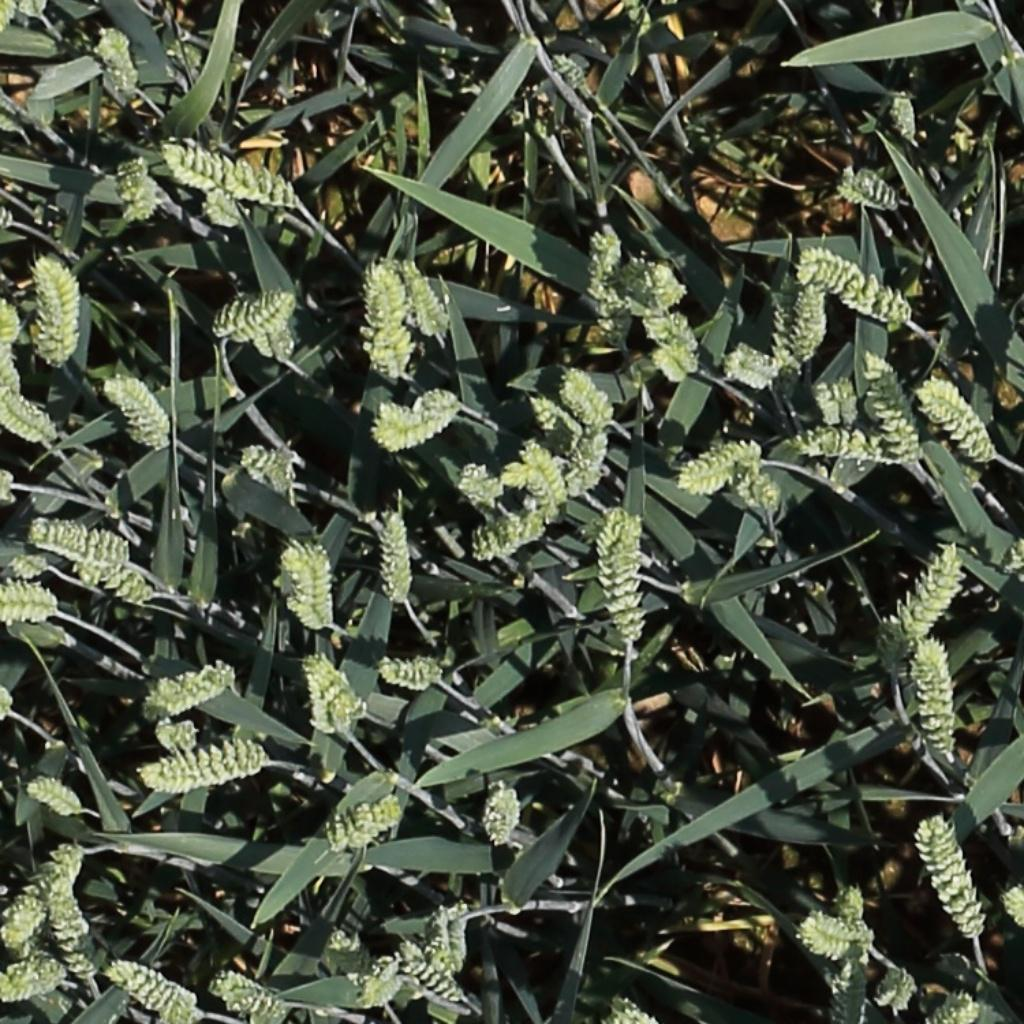0-0: (361, 261, 467, 416), (885, 539, 969, 680), (912, 814, 988, 942), (625, 252, 711, 354), (162, 141, 296, 204), (776, 261, 845, 383), (802, 251, 909, 322), (567, 249, 658, 324), (866, 348, 922, 465), (918, 379, 996, 462), (143, 740, 269, 789), (598, 509, 643, 643), (237, 286, 305, 372), (144, 656, 241, 715), (32, 252, 83, 362), (12, 846, 86, 921), (46, 875, 95, 988), (327, 926, 389, 1008), (791, 907, 878, 965), (395, 937, 466, 1006), (917, 637, 955, 765), (109, 959, 192, 1017), (102, 375, 172, 443), (305, 656, 363, 737), (72, 548, 150, 604), (527, 390, 591, 458), (520, 438, 570, 525), (498, 458, 585, 507), (828, 925, 870, 1024), (327, 800, 404, 853), (402, 256, 451, 339), (565, 421, 614, 503), (371, 407, 455, 454), (356, 950, 424, 1008), (30, 522, 128, 562), (290, 547, 333, 636), (795, 426, 907, 460), (562, 363, 617, 431), (454, 451, 520, 507), (92, 23, 141, 98), (471, 514, 547, 562), (374, 656, 455, 701), (215, 294, 296, 338), (731, 454, 783, 521), (0, 570, 59, 629), (430, 898, 472, 979), (212, 976, 286, 1019), (240, 443, 296, 499), (0, 958, 66, 1005), (0, 387, 55, 442), (0, 897, 49, 958), (591, 218, 622, 309), (480, 780, 518, 852), (550, 46, 600, 99), (868, 958, 915, 1014), (385, 503, 410, 608), (688, 442, 767, 475), (812, 374, 858, 426), (839, 172, 905, 207), (147, 704, 205, 743), (599, 989, 662, 1024), (650, 346, 699, 390), (626, 161, 666, 214), (891, 83, 924, 146), (200, 181, 244, 228), (649, 255, 685, 312), (25, 782, 83, 817), (0, 299, 21, 395), (920, 989, 977, 1024), (285, 532, 331, 571), (116, 150, 146, 208), (726, 353, 783, 383), (996, 872, 1024, 933), (841, 880, 868, 939), (622, 0, 655, 45), (0, 92, 23, 132), (679, 472, 733, 488), (6, 555, 50, 574), (0, 0, 19, 35), (0, 181, 13, 225), (18, 0, 47, 14), (0, 686, 12, 704)
